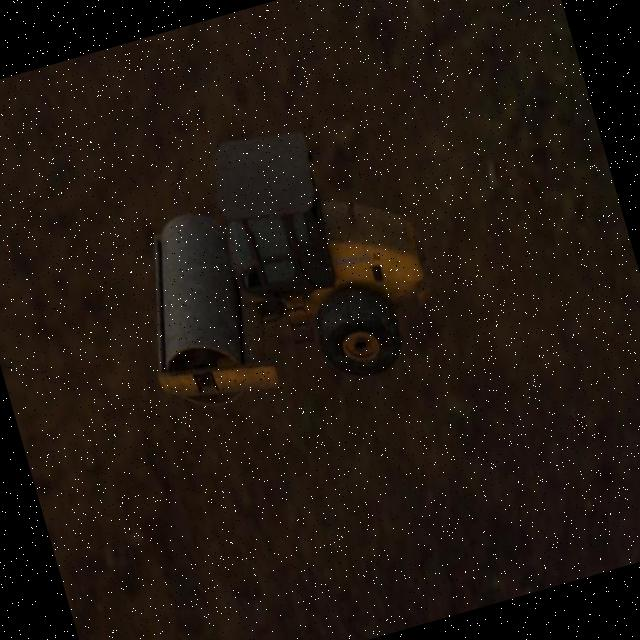Roller: (99, 94, 455, 432)
